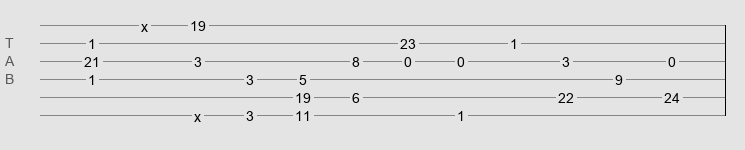0: (404, 54, 412, 64), (457, 54, 465, 64), (668, 54, 676, 64)
1: (88, 72, 96, 82), (88, 36, 96, 46), (457, 108, 465, 118), (510, 36, 518, 46)
11: (295, 108, 311, 118)
19: (190, 18, 206, 28), (295, 90, 311, 100)
21: (84, 54, 100, 64)
22: (558, 90, 574, 100)
23: (400, 36, 416, 46)
24: (664, 90, 680, 100)
3: (194, 54, 202, 64), (246, 72, 254, 82), (246, 108, 254, 118), (562, 54, 570, 64)
5: (299, 72, 307, 82)
6: (352, 90, 360, 100)
8: (352, 54, 360, 64)
9: (615, 72, 623, 82)
x: (141, 19, 148, 27), (194, 109, 201, 117)
